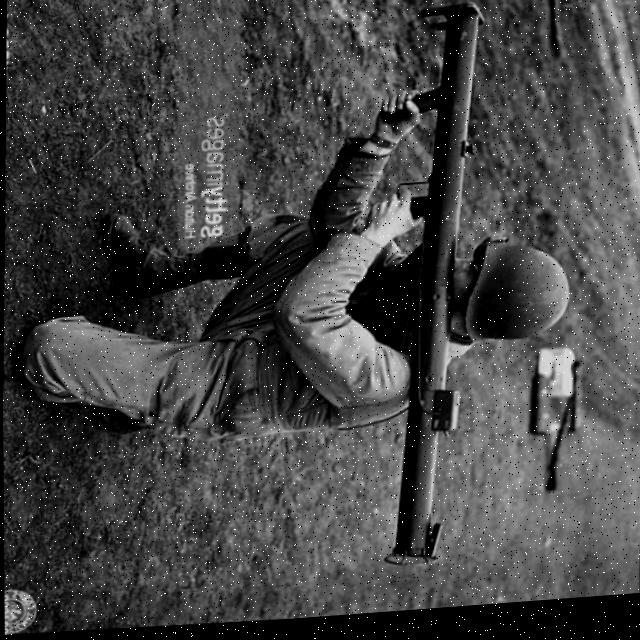rocket: (384, 7, 493, 577)
